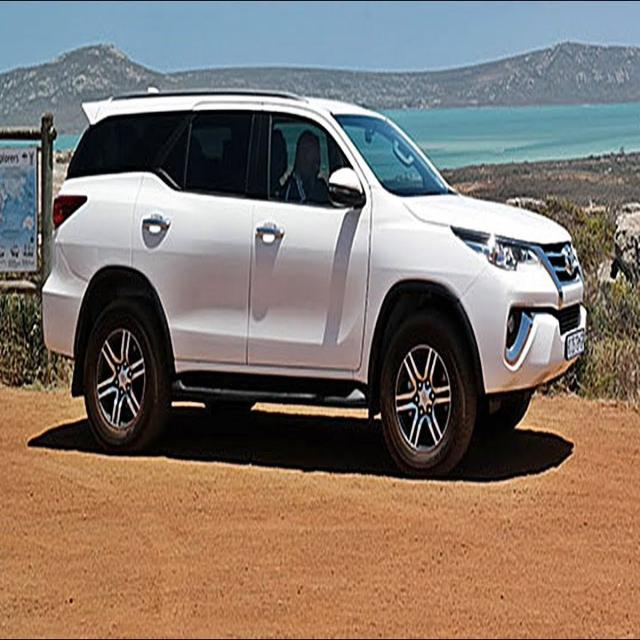light_vehicle: (41, 91, 588, 477)
